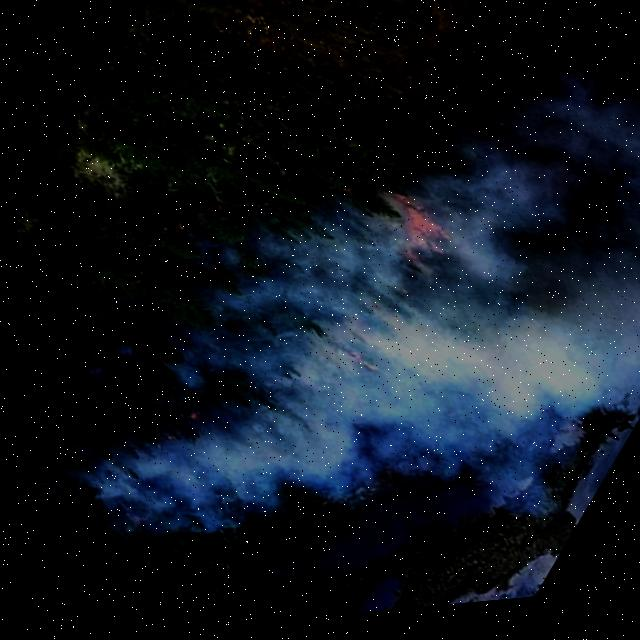Smoke: (11, 0, 640, 639)
